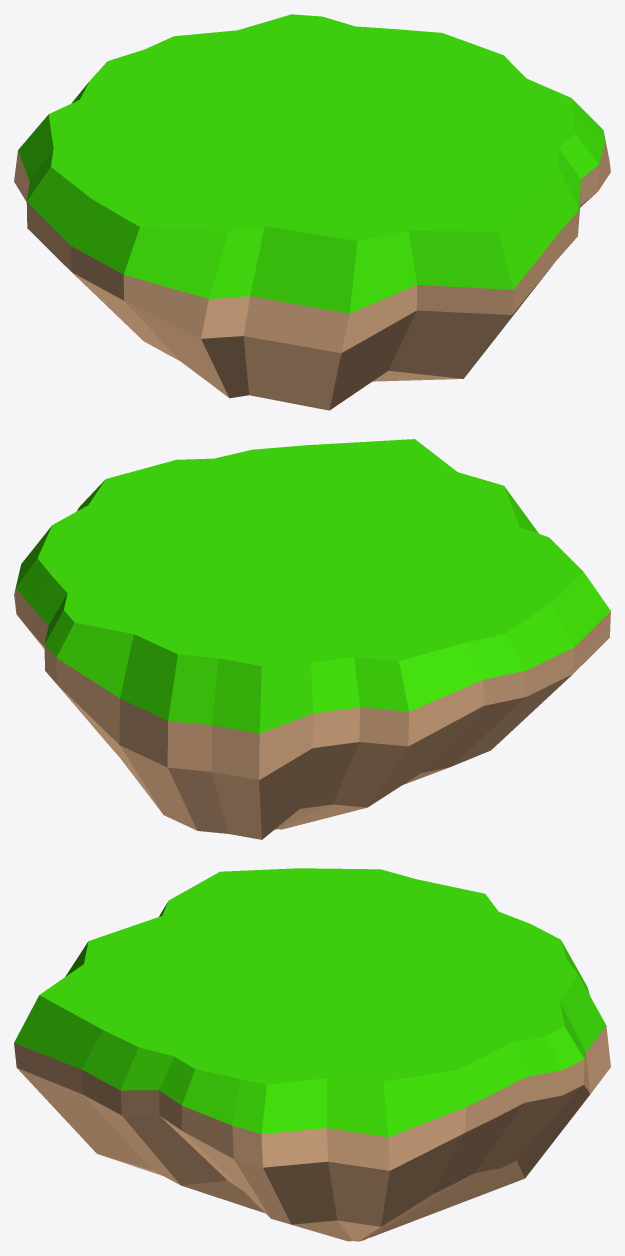
Rendered from FloatingIsland.fbx.
The picture shows the model from 3 angles, top to bottom: view 1: azimuth 30°, elevation 25°; view 2: azimuth 150°, elevation 25°; view 3: azimuth 270°, elevation 25°; orthographic projection. The views are drawn at different scales.
Parts seen in each view (by area): view 1: Vert; view 2: Vert; view 3: Vert.
Part boxes in pixels (left/top/right/bottom): Vert: left=14, top=14, right=610, bottom=410; Vert: left=14, top=439, right=610, bottom=839; Vert: left=14, top=868, right=610, bottom=1241.
Size of the model in its own units: 1681 by 798 by 1740.
